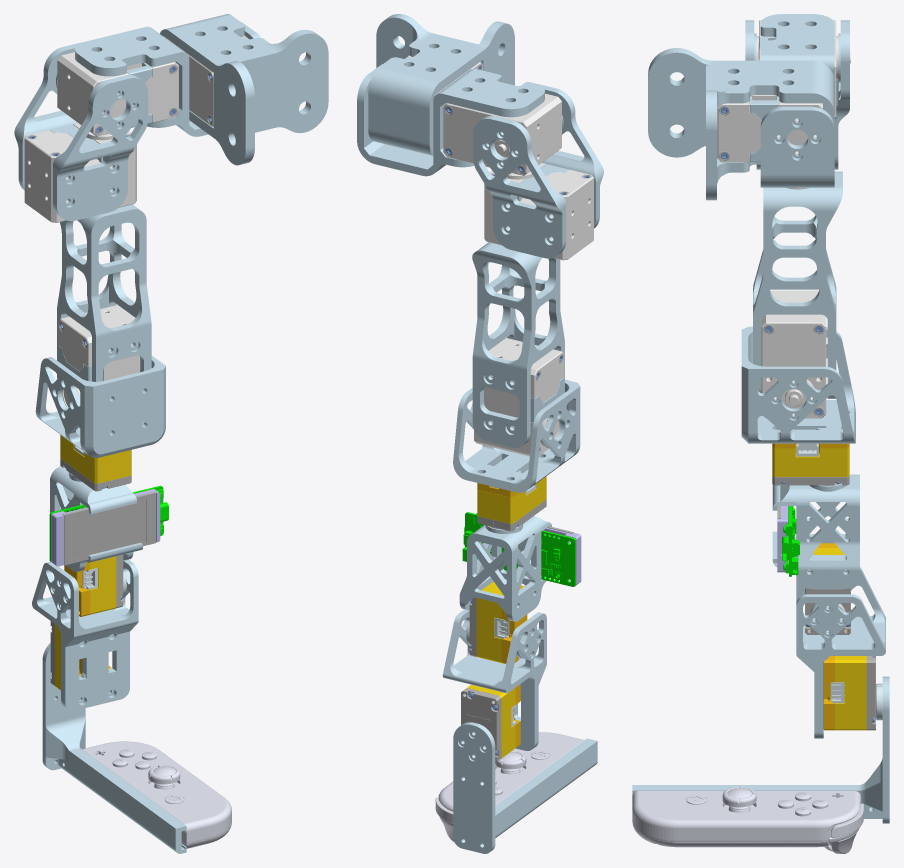
File: joylo-r1pro.glb
3 views of the same model, side by side, from view 1: azimuth 30°, elevation 25°; view 2: azimuth 150°, elevation 25°; view 3: azimuth 270°, elevation 25° (orthographic). The views are drawn at different scales.
Parts seen in each view (by area): view 1: 1_origin, dummy_dc12 (×4), 4_origin, 5_origin, 7_origin, 3a, 8_origin, switch_control_r_updated__15, 2_origin, lcd_nfp190b, dc15_a01_case_m_dummy (×2), 6_origin (+3 smaller); view 2: 4_origin, 1_origin, dummy_dc12 (×3), 8_origin, 3b, 2_origin, 5_origin, 6_origin, 7_origin, dc15_a01_case_m_dummy (×3), switch_control_r_updated__15, 3a (+3 smaller); view 3: 1_origin, switch_control_r_updated__15, 2_origin, 4_origin, 5_origin, dummy_dc12 (×3), 6_origin, 7_origin, dc15_a01_case_m_dummy (×2), 8_origin, dc15_a01_case_f_dummy (×3), 3b (+7 smaller).
Part boxes in pixels (x1,y1,x2,y2): 1_origin: (160, 14, 328, 165); dummy_dc12 (×4): (24, 35, 245, 407); 4_origin: (57, 204, 151, 398); 5_origin: (35, 355, 165, 457); 7_origin: (32, 559, 138, 710); 3a: (53, 75, 148, 221); 8_origin: (42, 643, 186, 853); switch_control_r_updated__15: (82, 741, 231, 844); 2_origin: (75, 22, 260, 136); lcd_nfp190b: (62, 491, 156, 565); dc15_a01_case_m_dummy (×2): (60, 435, 131, 614); 6_origin: (50, 466, 142, 572); 4_origin: (472, 242, 564, 447); 1_origin: (368, 14, 514, 155); dummy_dc12 (×3): (443, 93, 593, 456); 8_origin: (453, 722, 597, 853); 3b: (473, 115, 566, 258); 2_origin: (357, 64, 544, 176); 5_origin: (453, 379, 580, 492); 6_origin: (459, 516, 551, 621); 7_origin: (442, 609, 546, 750); dc15_a01_case_m_dummy (×3): (467, 476, 546, 758); switch_control_r_updated__15: (438, 732, 584, 811); 3a: (538, 84, 603, 228); 1_origin: (648, 48, 834, 200); switch_control_r_updated__15: (632, 791, 860, 841); 2_origin: (760, 14, 834, 187); 4_origin: (753, 171, 842, 398); 5_origin: (741, 326, 855, 443); dummy_dc12 (×3): (717, 20, 850, 418); 6_origin: (772, 474, 859, 588); 7_origin: (796, 567, 885, 738); dc15_a01_case_m_dummy (×2): (772, 443, 866, 730); 8_origin: (632, 676, 889, 823); dc15_a01_case_f_dummy (×3): (772, 476, 875, 730); 3b: (834, 20, 849, 169).
Size of the model in its own units: 0.134 by 0.398 by 0.113.
